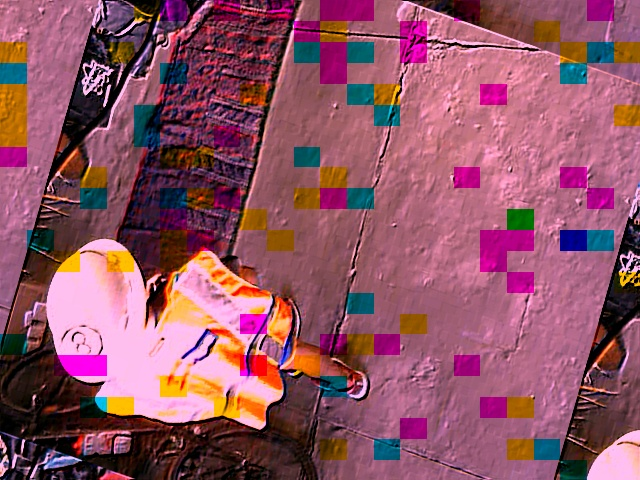eight: (56, 317, 108, 370)
